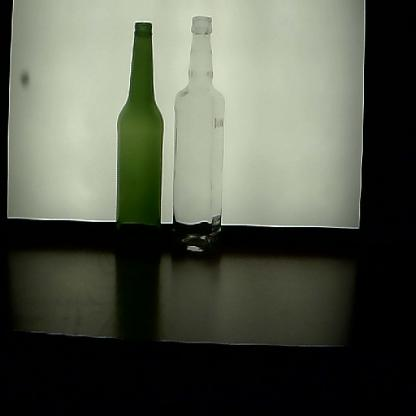Can: (171, 15, 227, 261), (112, 20, 167, 261)
